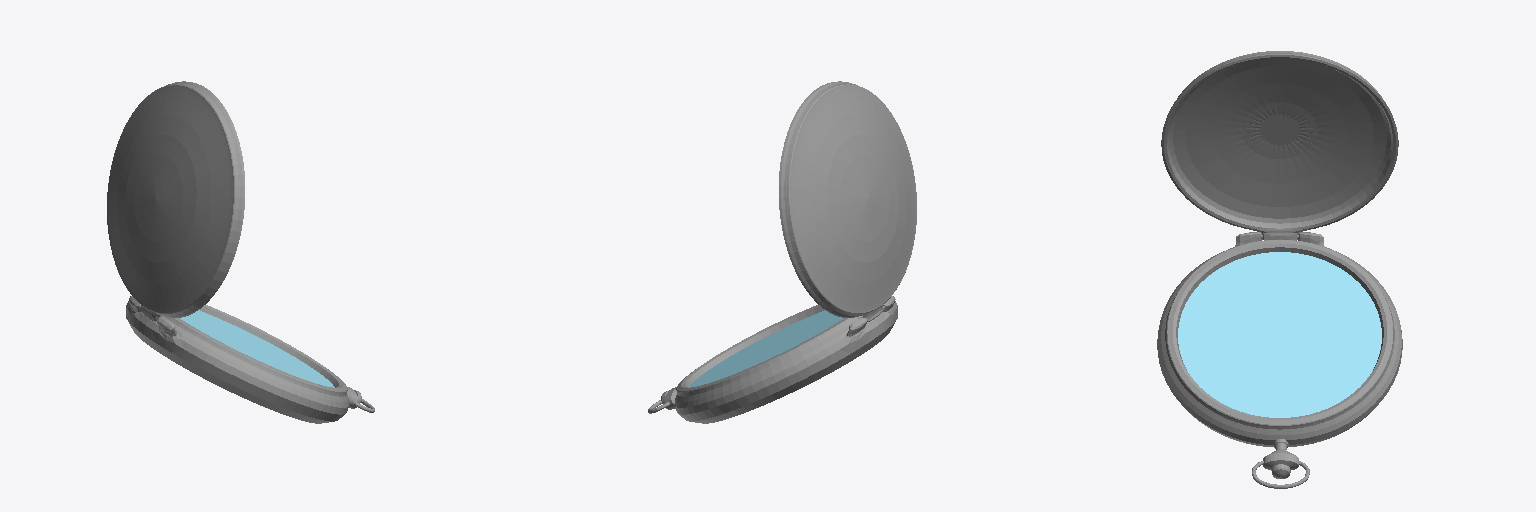
File: watch.obj
3 renders of one model, left to right at view 1: azimuth 30°, elevation 25°; view 2: azimuth 150°, elevation 25°; view 3: azimuth 270°, elevation 25°, orthographic.
Parts seen in each view (by area): view 1: Circle.005, Circle, Circle.004; view 2: Circle.005, Circle, Circle.004; view 3: Circle.005, Circle.004, Circle, Circle.001.
Boxes of the visible parts, <box> form: Circle.005: <box>107,81,244,321</box>; Circle: <box>126,296,349,423</box>; Circle.004: <box>180,310,334,387</box>; Circle.005: <box>779,81,916,321</box>; Circle: <box>674,296,897,423</box>; Circle.004: <box>689,310,843,387</box>; Circle.005: <box>1161,51,1398,240</box>; Circle.004: <box>1178,252,1381,417</box>; Circle: <box>1157,232,1402,446</box>; Circle.001: <box>1263,439,1298,470</box>.
Bounding box in the file's own units: 17.12 × 25.67 × 16.04.